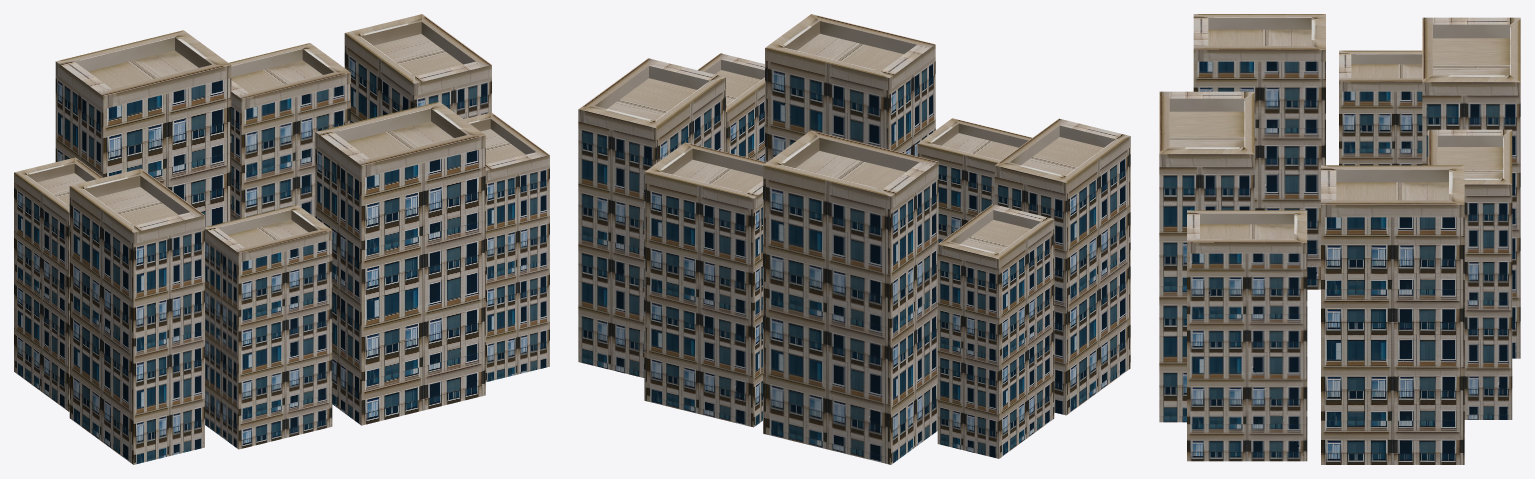
File: Buildings001.fbx
3 views of the same model, side by side, from view 1: azimuth 30°, elevation 25°; view 2: azimuth 150°, elevation 25°; view 3: azimuth 270°, elevation 25° (orthographic). The views are drawn at different scales.
Visible parts, largest first — view 1: Building 000.004, Building 000.007, Building 000.003, Building 000.001, Building 000.002, Building 000.005, Building 000.008, Building 000.006; view 2: Building 000.001, Building 000.002, Building 000.008, Building 000.006, Building 000.007, Building 000.004, Building 000.003, Building 000.005; view 3: Building 000.006, Building 000.005, Building 000.007, Building 000.004, Building 000.002, Building 000.001, Building 000.008.
Part boxes in pixels (x1,y1,x2,y2): Building 000.004: (315, 101, 485, 425); Building 000.007: (69, 168, 204, 464); Building 000.003: (205, 205, 332, 449); Building 000.001: (55, 30, 231, 227); Building 000.002: (229, 43, 350, 220); Building 000.005: (464, 112, 549, 382); Building 000.008: (14, 157, 102, 411); Building 000.006: (344, 14, 491, 122); Building 000.001: (763, 130, 938, 464); Building 000.002: (644, 142, 766, 427); Building 000.008: (937, 204, 1054, 458); Building 000.006: (578, 58, 725, 377); Building 000.007: (994, 118, 1130, 415); Building 000.004: (765, 14, 935, 162); Building 000.003: (917, 118, 1032, 242); Building 000.005: (697, 53, 764, 161); Building 000.006: (1321, 165, 1464, 464); Building 000.005: (1187, 210, 1307, 461); Building 000.007: (1193, 14, 1325, 289); Building 000.004: (1159, 91, 1254, 422); Building 000.002: (1428, 129, 1512, 419); Building 000.001: (1422, 17, 1520, 358); Building 000.008: (1339, 50, 1422, 165).
Size of the model in its own units: 73.75 by 44.94 by 53.26.
